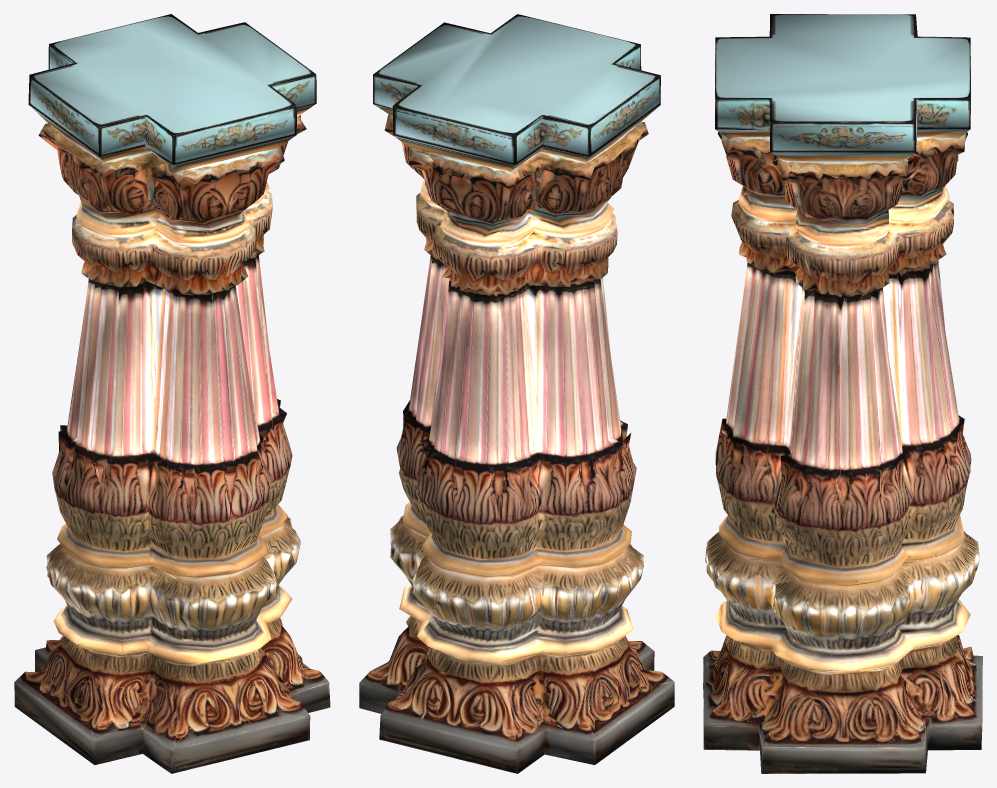
Rendered from Ornate_Turquoise_Pill.glb.
3 views of the same model, side by side, from view 1: azimuth 30°, elevation 25°; view 2: azimuth 150°, elevation 25°; view 3: azimuth 270°, elevation 25° (orthographic). The views are drawn at different scales.
Visible parts, largest first — view 1: Mesh1.0; view 2: Mesh1.0; view 3: Mesh1.0.
Part boxes in pixels (<box>): Mesh1.0: <box>14,14,330,773</box>; Mesh1.0: <box>359,14,674,773</box>; Mesh1.0: <box>703,14,982,773</box>.
Bounding box in the file's own units: 0.7414 × 1.9 × 0.7437.
Materials: 1 (1 with a texture image).
